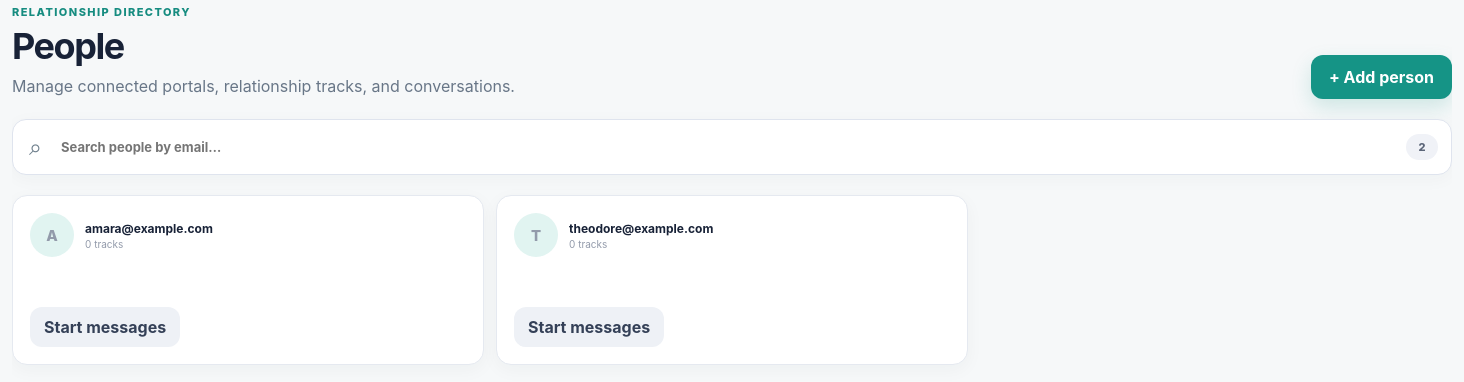
Test: PeopleWorkspace › shows a useful empty state when a search has no matches
The image size is (1464, 382).
Type "missing" into the search field named "Search people". click: x=732, y=147
box: [12, 119, 1452, 175]
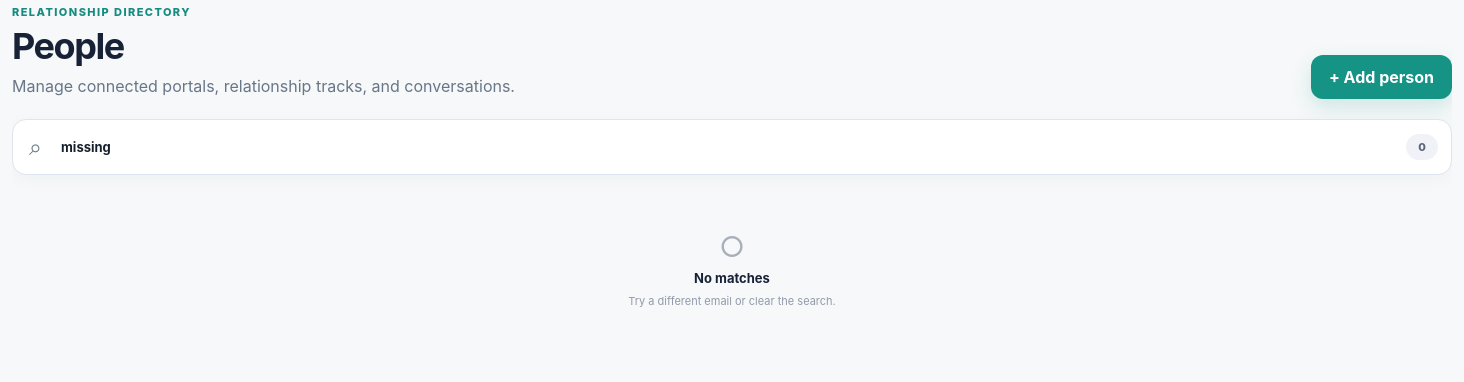
Now the text "No matches" is shown, box [694, 270, 770, 286]
